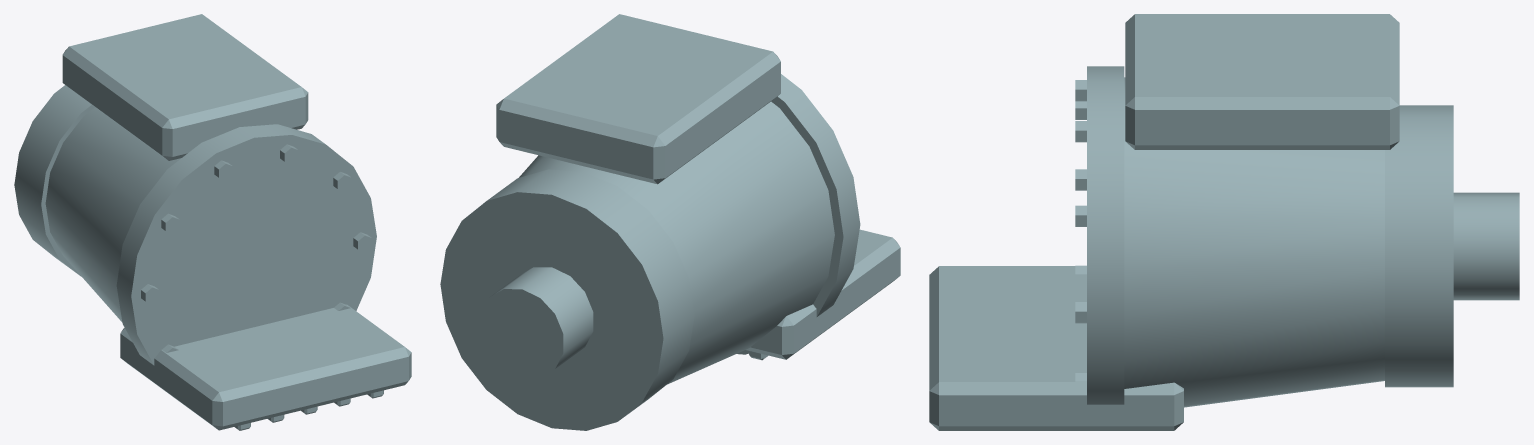
Rendered from wj_pump.glb.
3 renders of one model, left to right at view 1: azimuth 30°, elevation 25°; view 2: azimuth 150°, elevation 25°; view 3: azimuth 270°, elevation 25°, orthographic. The views are drawn at different scales.
Visible parts, largest first — view 1: wj_pump; view 2: wj_pump; view 3: wj_pump.
Boxes of the visible parts, x1,y1,x2,y2 form: wj_pump: [14, 14, 411, 430]; wj_pump: [440, 14, 900, 430]; wj_pump: [929, 14, 1519, 430].
Size of the model in its own units: 0.37 by 0.4 by 0.6025.
